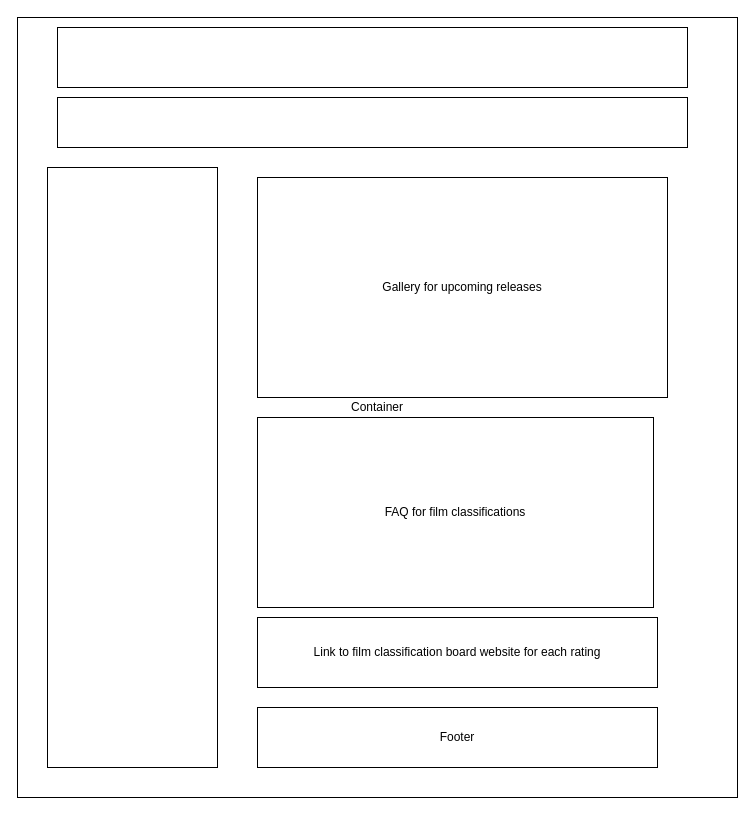
The diagram is 755 pixels wide and 815 high, and some of its shapes have lost their labels. Here are the shapes that lost their labels. From the top down, the box of each, then its label:
(56, 26, 688, 88): Header- Film Classification
(56, 96, 688, 148): Logo
(46, 166, 218, 768): Nav for whole site
